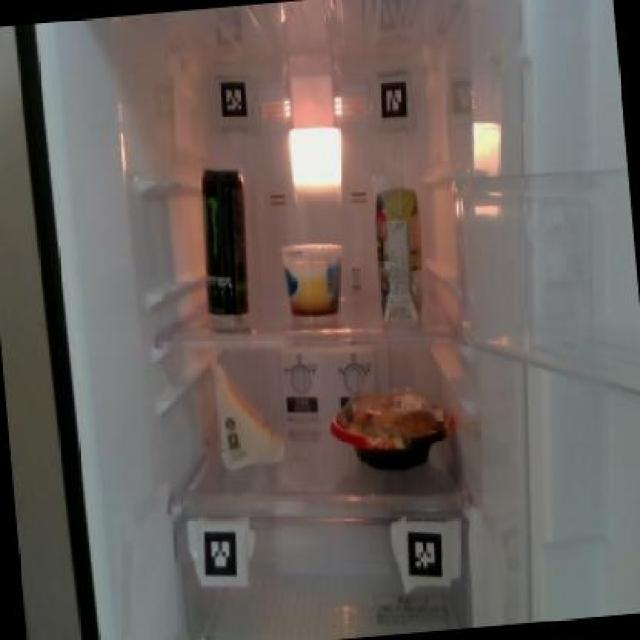bento: (326, 388, 459, 470)
energy_drink: (193, 161, 256, 316)
pudding: (278, 238, 348, 318)
sandwich: (207, 347, 291, 482)
smoothie: (366, 166, 429, 325)
